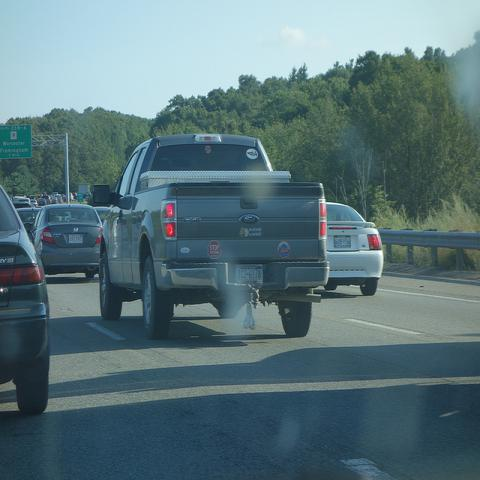car: (1, 180, 52, 414), (29, 204, 102, 284), (324, 202, 383, 295), (13, 202, 41, 231), (34, 203, 46, 209), (42, 196, 52, 203), (38, 198, 46, 205), (58, 196, 63, 203), (70, 193, 74, 201)
truck: (88, 136, 329, 342), (78, 184, 90, 198)
